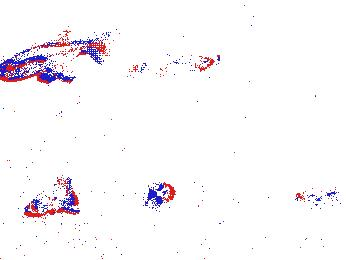red belly glassfish: (146, 183, 179, 208), (293, 190, 332, 204)
redtail glassfish: (1, 36, 111, 83), (17, 178, 79, 218), (129, 52, 219, 79)
